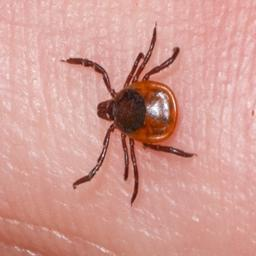Ixodes scapularis: (62, 21, 192, 207)
